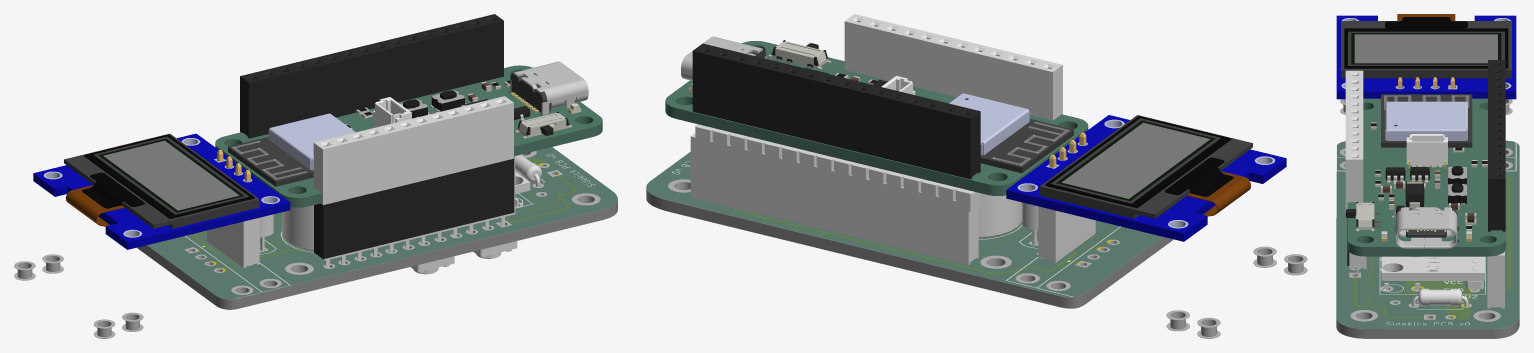
The model's file is sidekick-min-gltfpack.glb.
3 renders of one model, left to right at view 1: azimuth 30°, elevation 25°; view 2: azimuth 150°, elevation 25°; view 3: azimuth 270°, elevation 25°, orthographic. The views are drawn at different scales.
Visible parts, largest first — view 1: object 1, object 42, object 19, U1 (×2), J2, object 37, object 32, J4, SW2, SW1; view 2: object 1, object 42, object 19, U1 (×3), object 37, J4, object 32, U3; view 3: object 1, object 42, object 37, object 32, U1 (×3), J4, object 19, SW2, SW1, U2, U3.
Boxes of the visible parts, <box> form: object 1: <box>33,113,541,267</box>; object 42: <box>14,147,617,338</box>; object 19: <box>249,21,572,138</box>; U1 (×2): <box>313,96,515,267</box>; J2: <box>314,157,514,259</box>; object 37: <box>215,65,602,207</box>; object 32: <box>372,61,588,127</box>; J4: <box>240,14,503,138</box>; SW2: <box>430,90,465,111</box>; SW1: <box>473,198,518,258</box>; object 1: <box>690,93,1286,264</box>; object 42: <box>646,152,1307,338</box>; object 19: <box>692,40,970,179</box>; U1 (×3): <box>691,14,1062,264</box>; object 37: <box>665,41,1088,195</box>; J4: <box>693,43,980,178</box>; object 32: <box>681,36,915,94</box>; U3: <box>1038,206,1055,262</box>; object 1: <box>1336,14,1516,306</box>; object 42: <box>1336,99,1519,338</box>; object 37: <box>1347,98,1505,256</box>; object 32: <box>1395,134,1457,248</box>; U1 (×3): <box>1345,70,1504,308</box>; J4: <box>1488,60,1505,231</box>; object 19: <box>1346,72,1500,231</box>; SW2: <box>1448,183,1466,204</box>; SW1: <box>1448,166,1466,184</box>; U2: <box>1385,167,1405,182</box>; U3: <box>1410,167,1429,182</box>.
Size of the model in its own units: 0.084 by 0.0283 by 0.0265.
